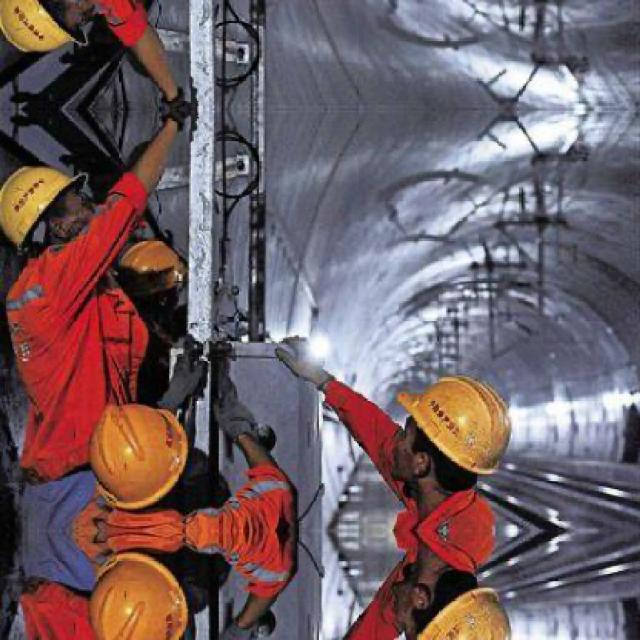helmet: (386, 356, 522, 492), (72, 397, 200, 508), (72, 552, 202, 638), (3, 152, 108, 258), (384, 568, 522, 638), (2, 0, 108, 65), (114, 242, 188, 304)
